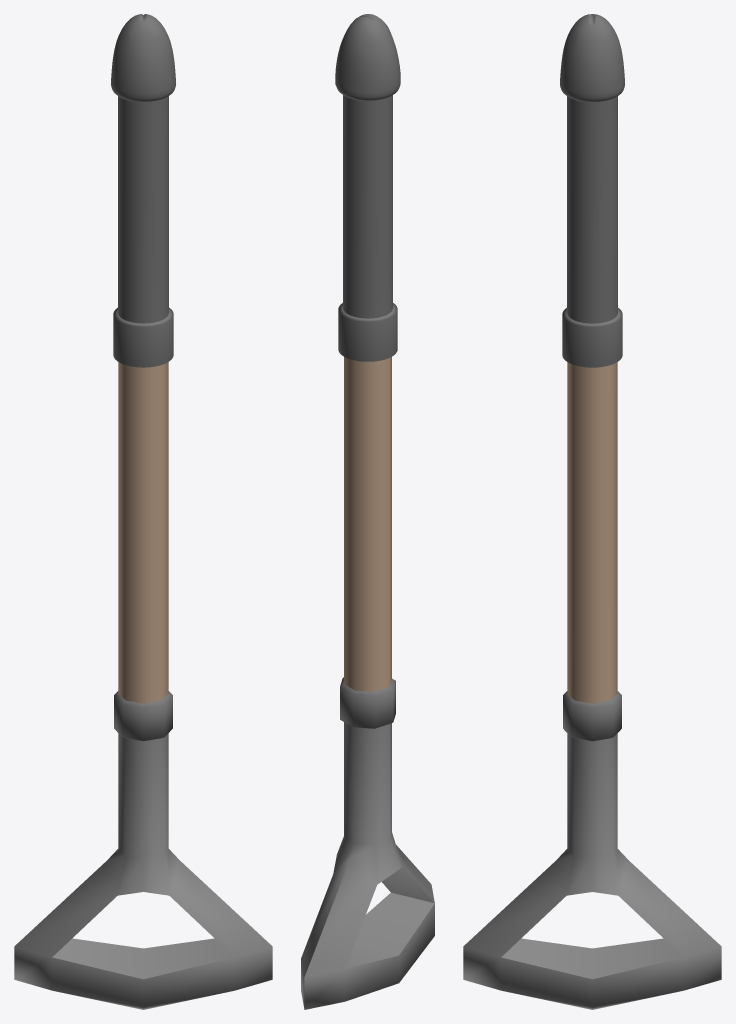
File: DickShovel.fbx
3 renders of one model, left to right at view 1: azimuth 90°, elevation 25°; view 2: azimuth 150°, elevation 25°; view 3: azimuth 270°, elevation 25°, orthographic.
Parts seen in each view (by area): view 1: ShovelItem, Circle; view 2: ShovelItem, Circle; view 3: ShovelItem, Circle.
Boxes of the visible parts, x1,y1,x2,y2 form: ShovelItem: [14, 362, 272, 1009]; Circle: [111, 14, 175, 367]; ShovelItem: [301, 357, 434, 1009]; Circle: [335, 14, 400, 361]; ShovelItem: [463, 362, 721, 1009]; Circle: [560, 14, 624, 367].
Size of the model in its own units: 13.29 by 199 by 47.
